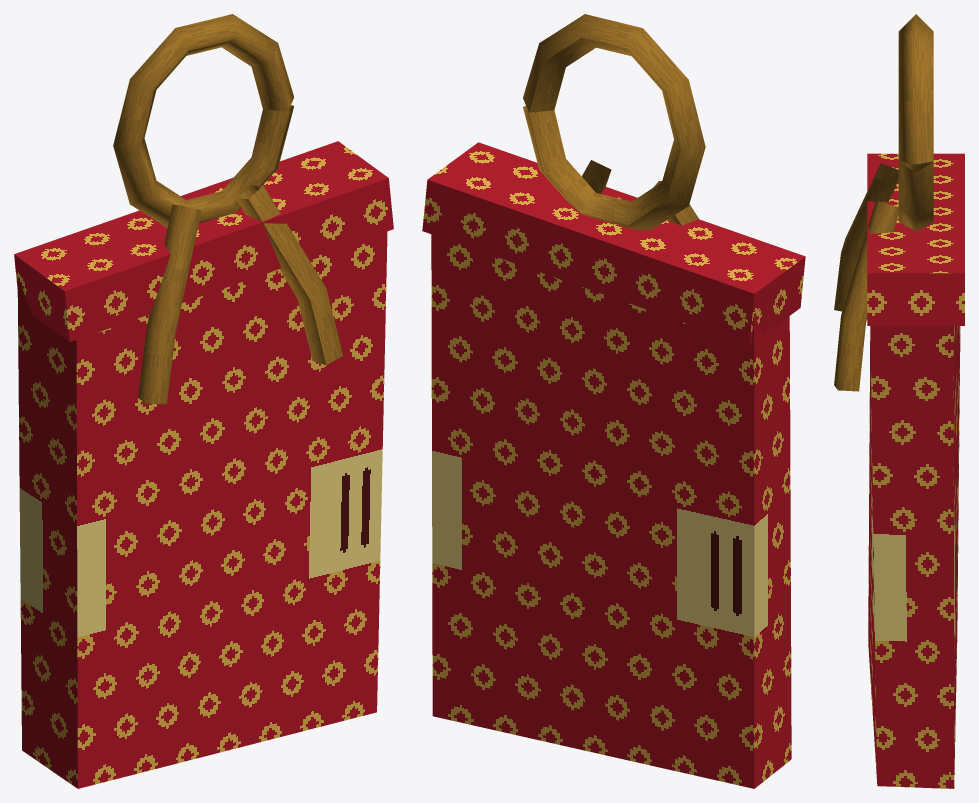
The model's file is item_omamori.glb.
The picture shows the model from 3 angles, left to right: view 1: azimuth 30°, elevation 25°; view 2: azimuth 150°, elevation 25°; view 3: azimuth 270°, elevation 25°; orthographic projection. The views are drawn at different scales.
Parts seen in each view (by area): view 1: item_omamori; view 2: item_omamori; view 3: item_omamori.
Boxes of the visible parts, x1,y1,x2,y2 form: item_omamori: (14, 14, 393, 788); item_omamori: (422, 14, 805, 788); item_omamori: (834, 14, 964, 788).
Size of the model in its own units: 0.0525 by 0.1089 by 0.0188.
Materials: 2 (2 with a texture image).
